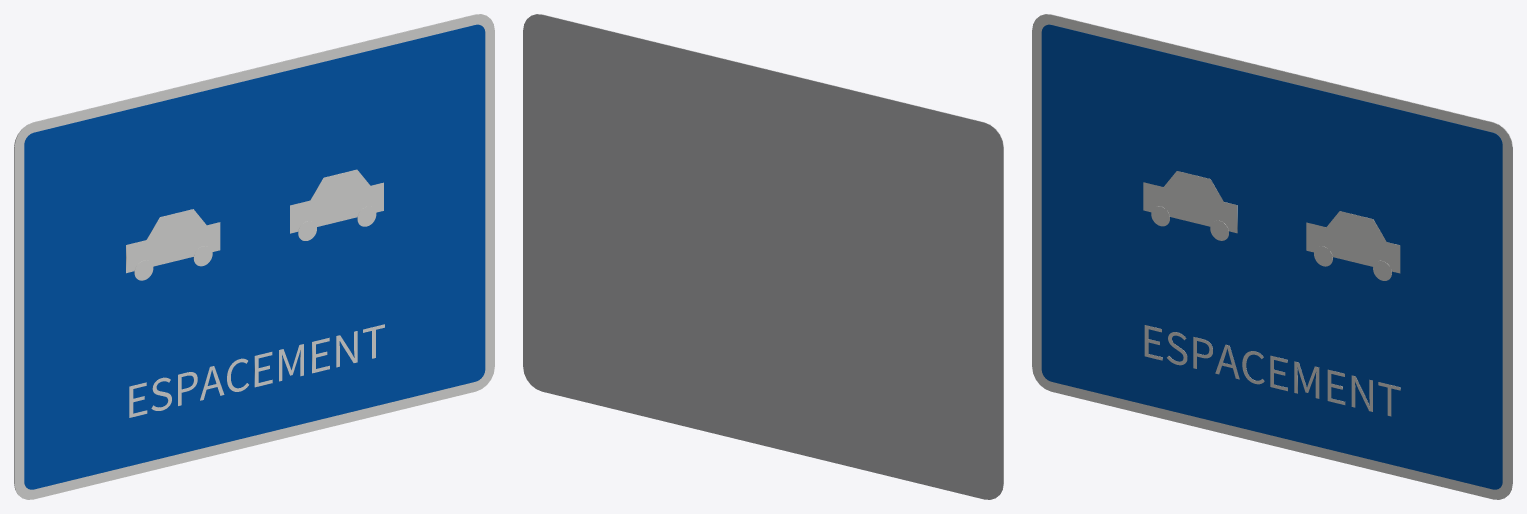
The picture shows the model from 3 angles, left to right: view 1: azimuth 30°, elevation 25°; view 2: azimuth 150°, elevation 25°; view 3: azimuth 330°, elevation 25°; orthographic projection.
Parts seen in each view (by area): view 1: SR2_r01, SR2_r00, SR2_txt10, SR2_p02, SR2_p06, SR2_p07, SR2_p03, SR2_dos; view 2: SR2_dos; view 3: SR2_r01, SR2_r00, SR2_txt10, SR2_p02, SR2_p06, SR2_p07, SR2_p03, SR2_dos.
Part boxes in pixels (<box>): SR2_r01: <box>24,24,485,489</box>; SR2_r00: <box>14,14,494,499</box>; SR2_txt10: <box>129,324,384,417</box>; SR2_p02: <box>126,222,220,273</box>; SR2_p06: <box>290,182,383,233</box>; SR2_p07: <box>310,169,370,200</box>; SR2_p03: <box>146,209,206,240</box>; SR2_dos: <box>14,14,483,493</box>; SR2_dos: <box>523,14,1003,499</box>; SR2_r01: <box>1041,24,1502,489</box>; SR2_r00: <box>1032,14,1512,499</box>; SR2_txt10: <box>1144,325,1400,416</box>; SR2_p02: <box>1143,182,1237,233</box>; SR2_p06: <box>1306,222,1400,273</box>; SR2_p07: <box>1326,211,1386,242</box>; SR2_p03: <box>1164,171,1223,201</box>; SR2_dos: <box>1043,14,1512,493</box>.
Bounding box in the file's own units: 1 × 0.75 × 0.0057.
